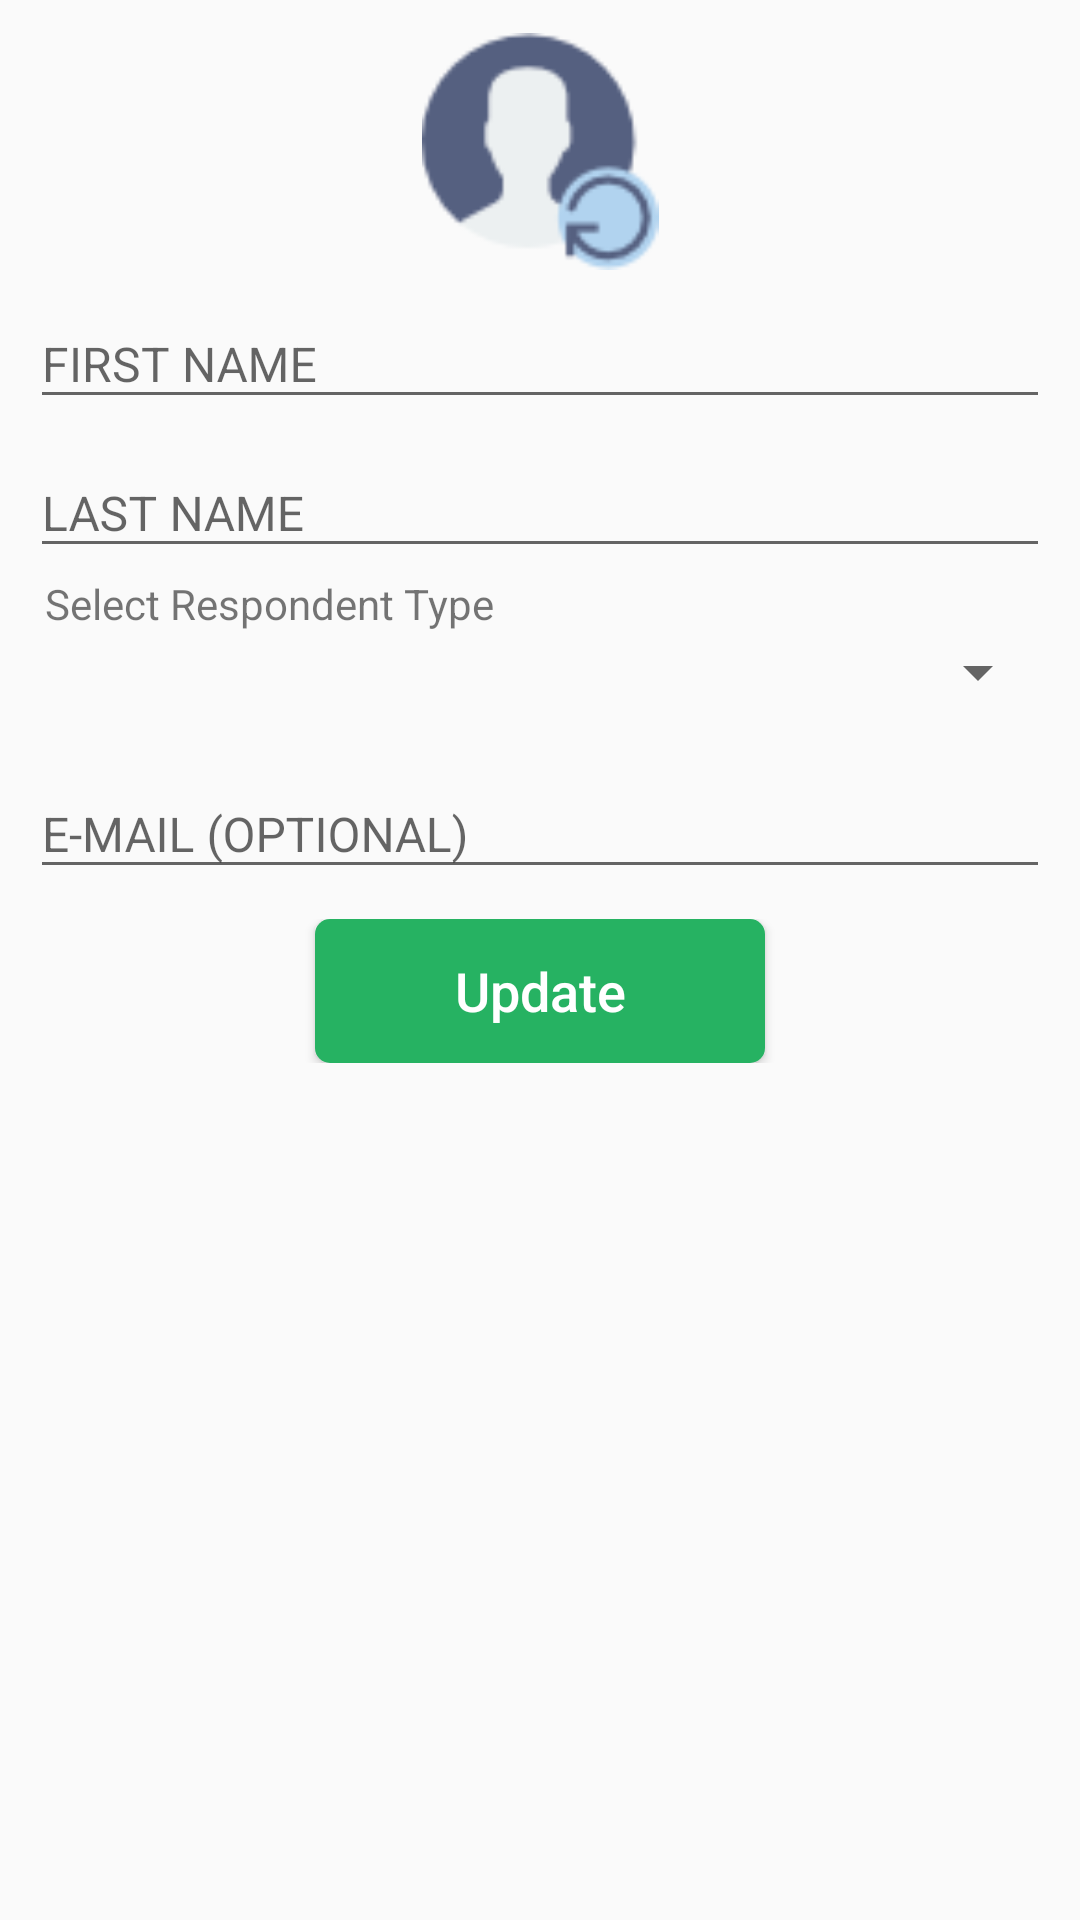

Where to tap for icons on this 1080px x 1920px app screen, as point (x, y):
user: point (540, 151)
